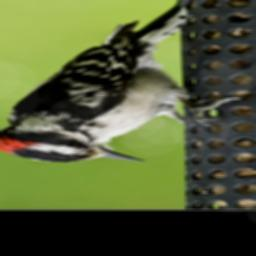Woodpecker: (0, 4, 233, 166)
